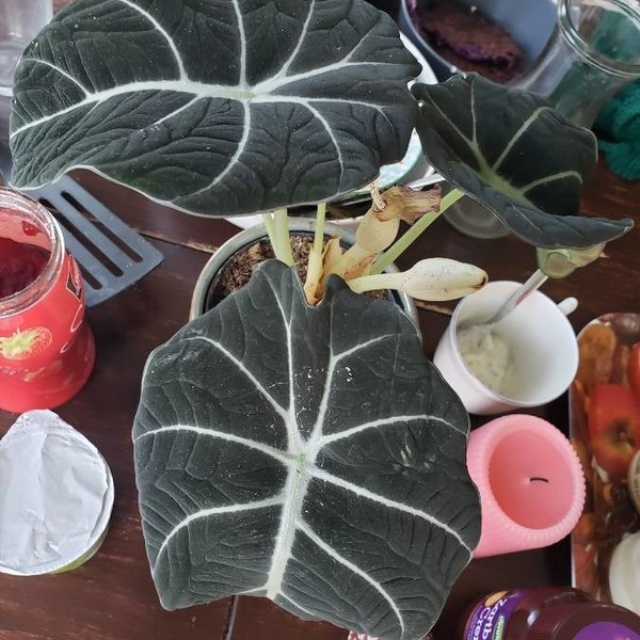obstacle: (25, 3, 485, 601)
